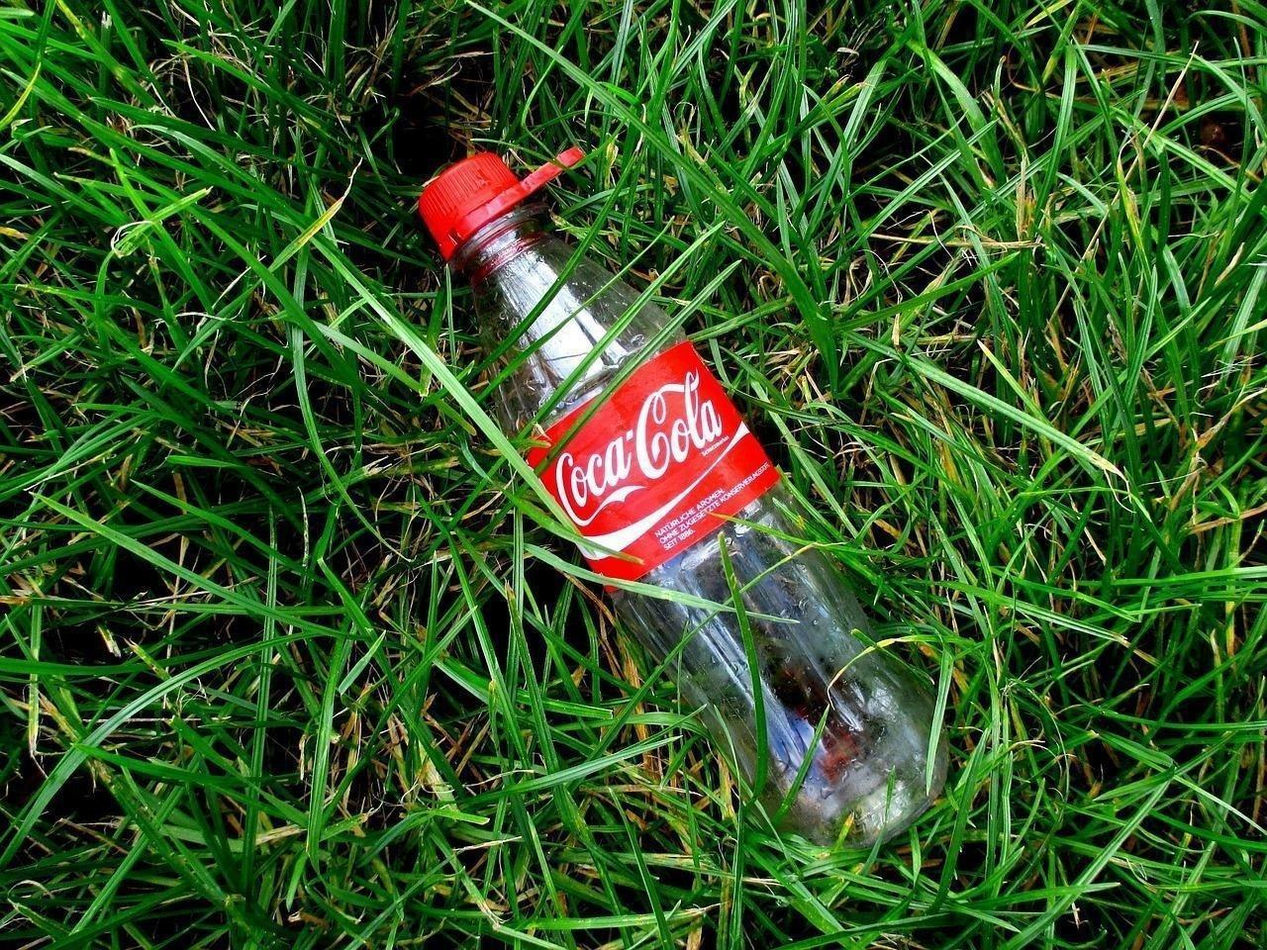bottle-plastic: (410, 141, 957, 872)
